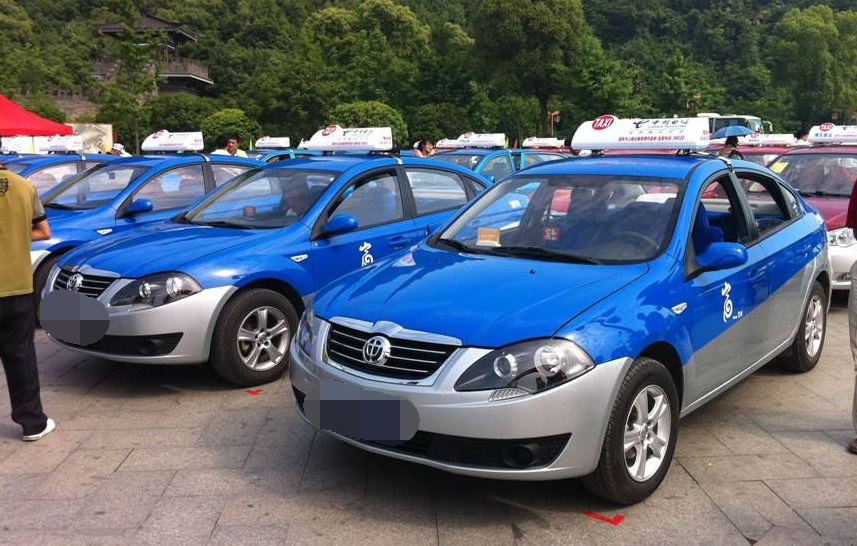taxi: (306, 104, 834, 501), (47, 142, 493, 384)
